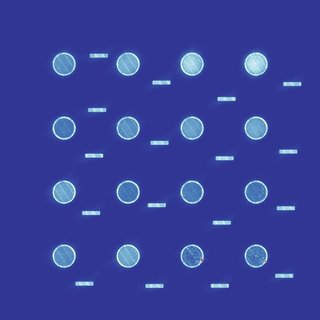overheated: (264, 259, 268, 263), (200, 258, 204, 261)
